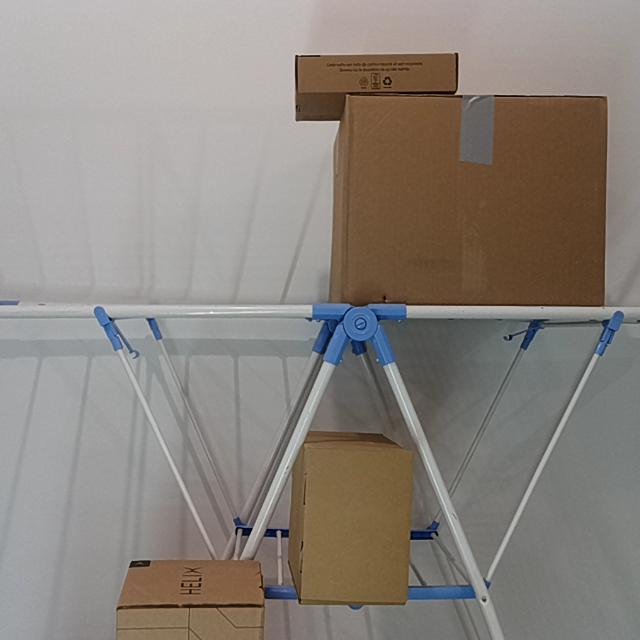box: (345, 96, 607, 305), (306, 446, 407, 605), (296, 53, 458, 92), (119, 606, 262, 640)
